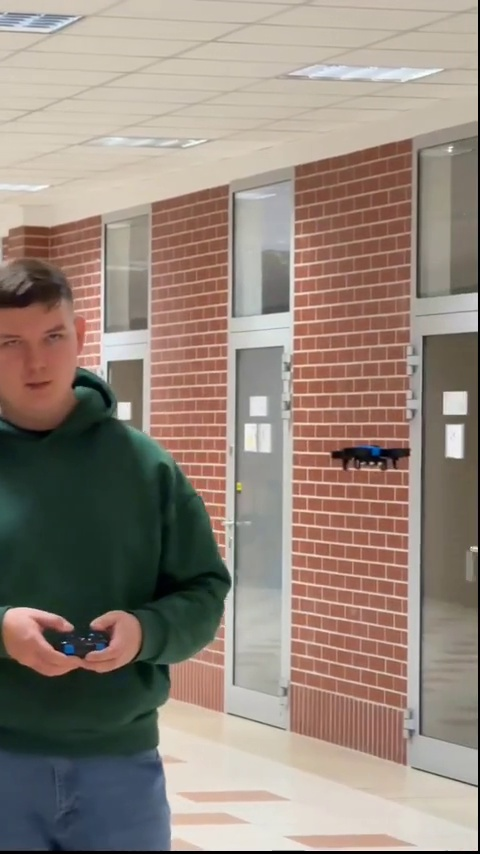drone: (325, 443, 414, 473)
no vest: (0, 262, 234, 854)
